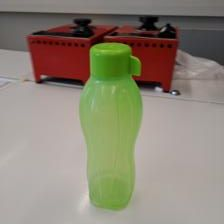bottle: (78, 39, 142, 211)
